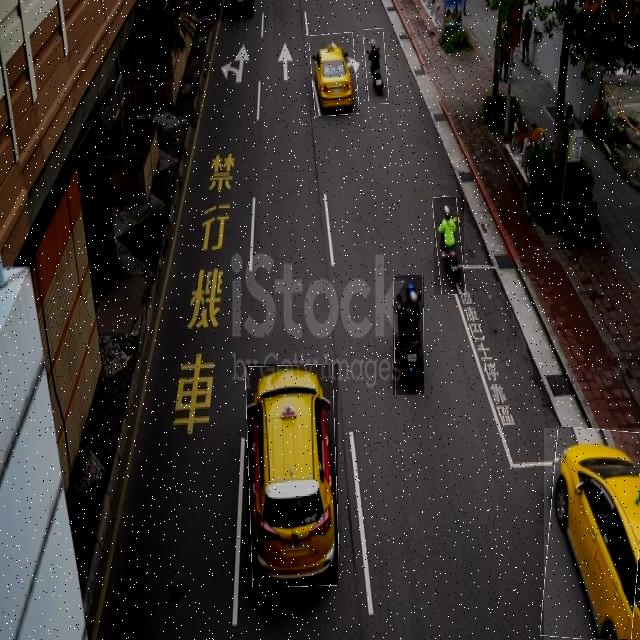Car: (544, 428, 640, 640), (247, 364, 338, 586), (311, 33, 357, 116)
Motorcycle: (393, 275, 424, 395), (434, 197, 464, 295), (365, 29, 387, 104)
